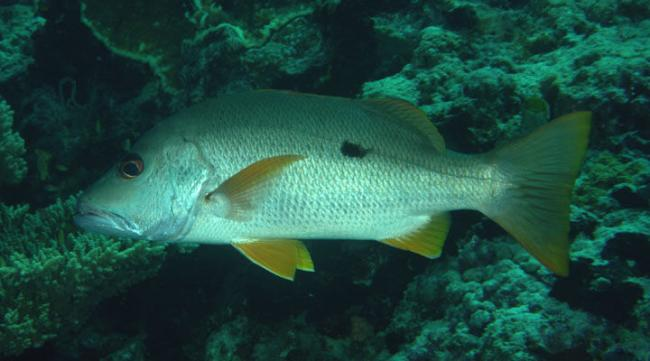fish: (76, 88, 592, 282)
